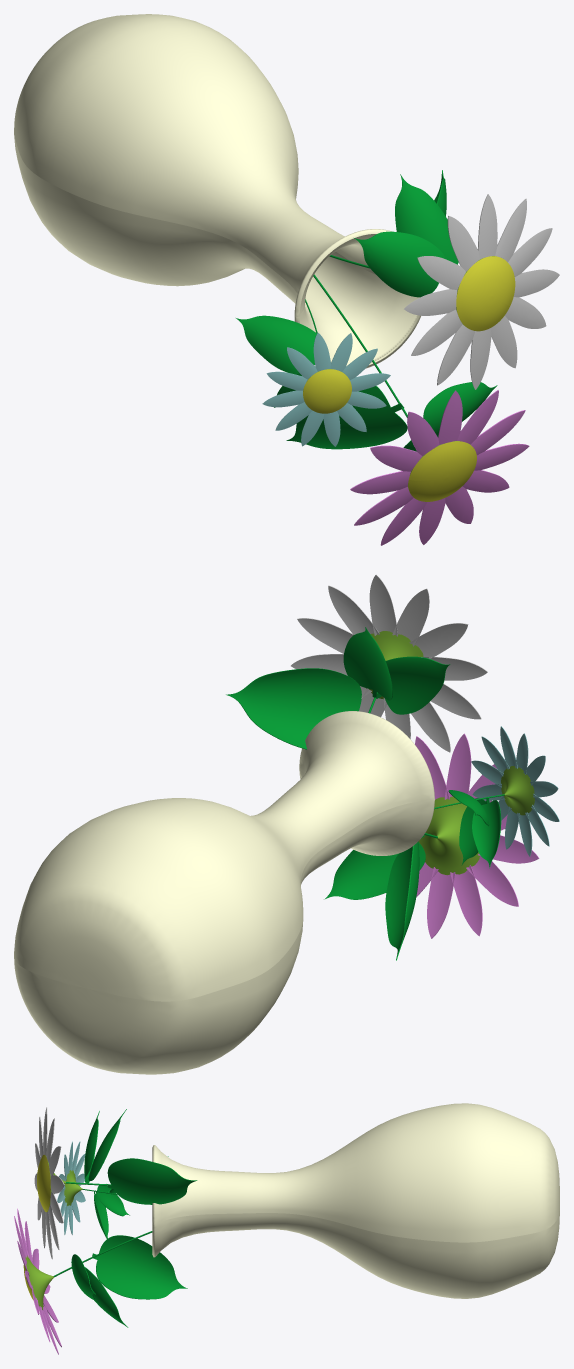
The model's file is FlowerVase.fbx.
3 views of the same model, one above another, from view 1: azimuth 30°, elevation 25°; view 2: azimuth 150°, elevation 25°; view 3: azimuth 270°, elevation 25° (orthographic). The views are drawn at different scales.
Visible parts, largest first — view 1: Object_1, Object_41, Object_42, Object_35, Object_38, Object_20, Object_40, Object_17, Object_36, Object_45, Object_55, Object_44 (+21 smaller); view 2: Object_1, Object_39, Object_41, Object_34, Object_38, Object_37, Object_40, Object_19, Object_24, Object_25, Object_16, Object_26 (+14 smaller); view 3: Object_1, Object_38, Object_39, Object_37, Object_42, Object_40, Object_34, Object_36, Object_19, Object_41, Object_16, Object_18.
Boxes of the visible parts, box(x1,y1,x2,y2) form: Object_1: box(14, 14, 420, 368); Object_41: box(354, 231, 445, 297); Object_42: box(456, 256, 515, 331); Object_35: box(408, 441, 476, 501); Object_38: box(286, 386, 407, 449); Object_20: box(236, 315, 316, 374); Object_40: box(395, 174, 458, 264); Object_17: box(303, 369, 351, 413); Object_36: box(423, 382, 497, 436); Object_45: box(404, 289, 457, 315); Object_55: box(447, 216, 479, 271); Object_44: box(417, 256, 465, 290); Object_1: box(14, 711, 434, 1074); Object_39: box(226, 668, 361, 749); Object_41: box(376, 656, 450, 714); Object_34: box(418, 796, 479, 875); Object_38: box(385, 841, 419, 960); Object_37: box(324, 835, 425, 899); Object_40: box(343, 627, 392, 700); Object_19: box(472, 797, 501, 868); Object_24: box(427, 867, 455, 938); Object_25: box(450, 865, 482, 936); Object_16: box(501, 766, 534, 815); Object_26: box(466, 856, 518, 906); Object_1: box(152, 1103, 559, 1298); Object_38: box(92, 1235, 187, 1299); Object_39: box(107, 1158, 197, 1204); Object_37: box(85, 1267, 128, 1327); Object_42: box(37, 1155, 50, 1212); Object_40: box(87, 1109, 126, 1184); Object_34: box(25, 1255, 53, 1309); Object_36: box(71, 1254, 95, 1299); Object_19: box(95, 1185, 129, 1216); Object_41: box(84, 1111, 99, 1183); Object_16: box(64, 1170, 82, 1205); Object_18: box(94, 1191, 108, 1238).
Bounding box in the file's own units: 37.08 × 42.89 × 84.71.
